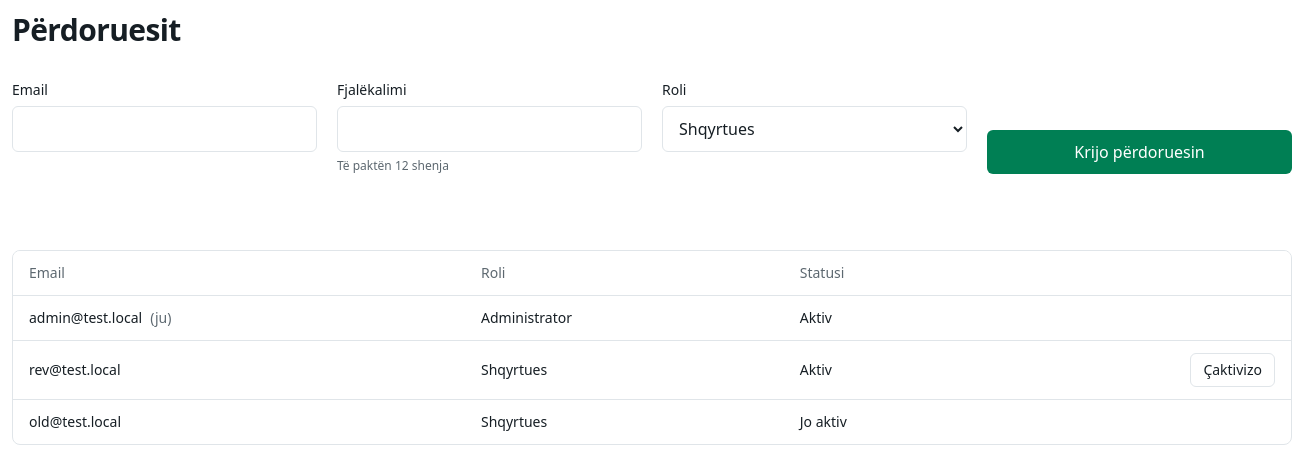
it: UsersPage › creates a user and reloads the list
The image size is (1304, 462).
Check: the table is shown, box [13,251,1291,444]
In the field labelled "Email": {"x": 164, "y": 129} [12,106,317,152], type "new@test.local"
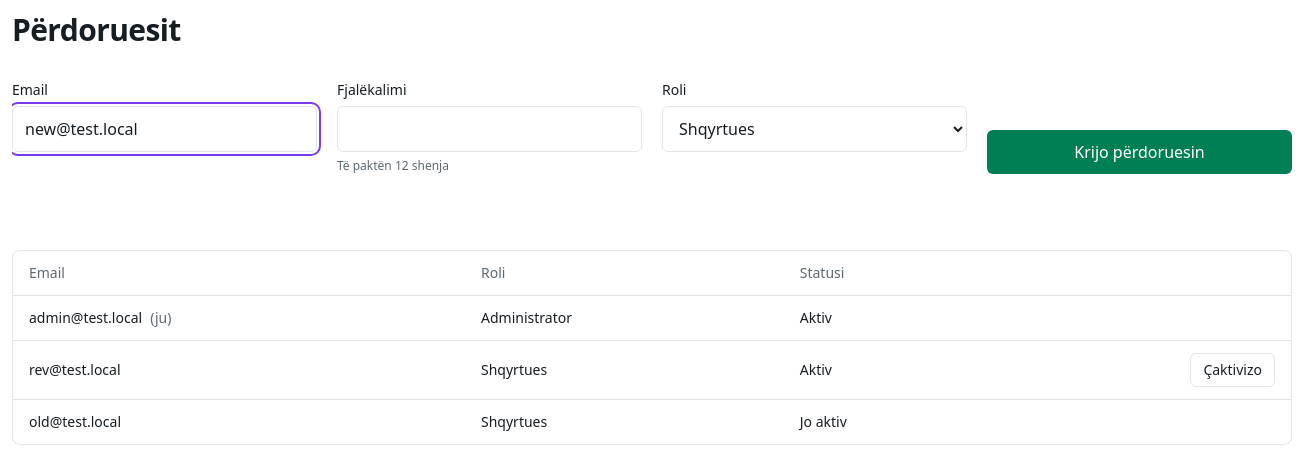
In the password field labelled "Fjalëkalimi": {"x": 490, "y": 129} [337,106,642,152], type "Long-enough-pass-1"
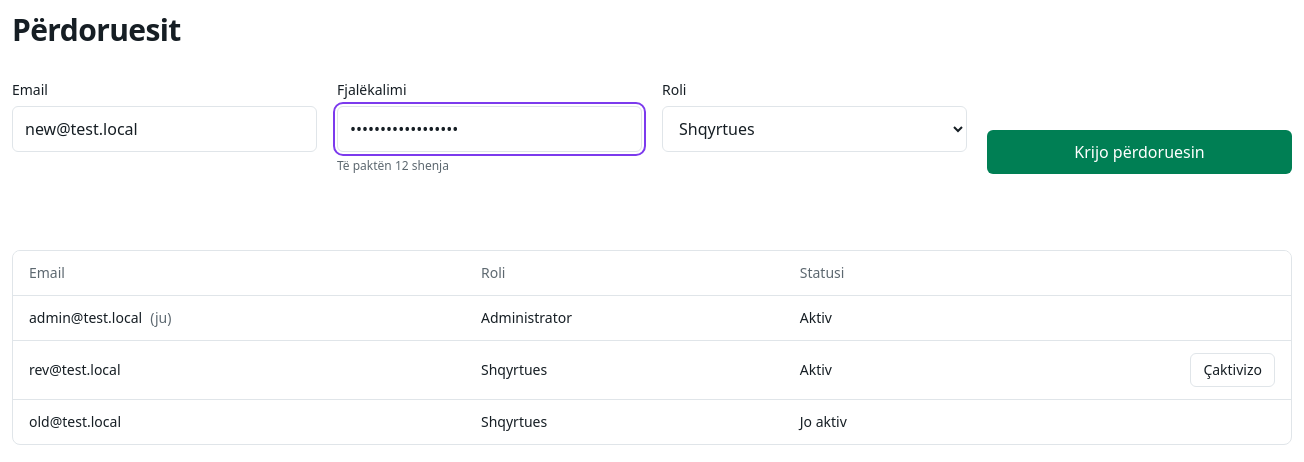
Select "Administrator" in the dropdown labelled "Roli": {"x": 814, "y": 129} [662,106,967,152]
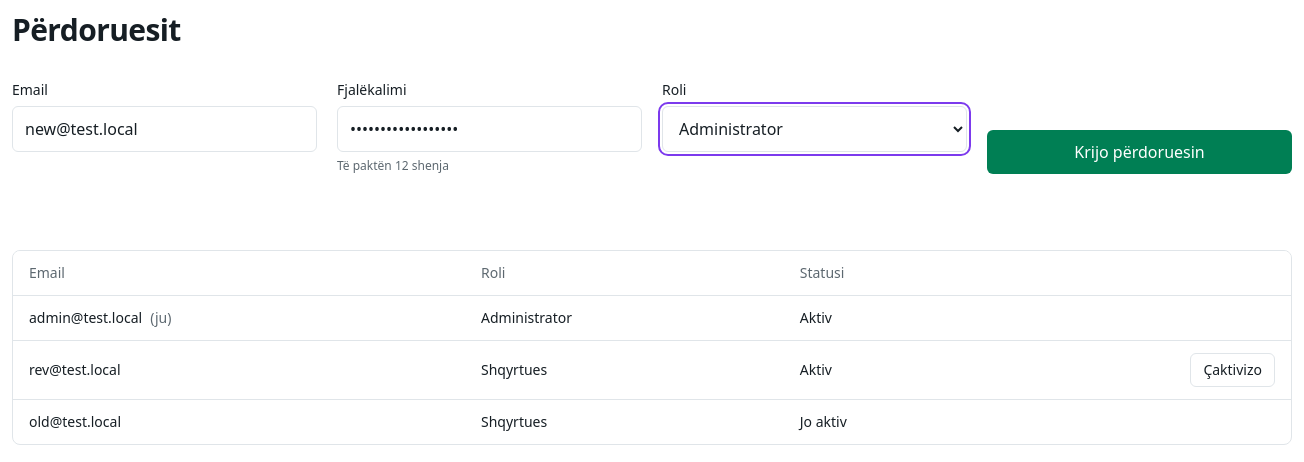
Click the button "Krijo përdoruesin": {"x": 1140, "y": 152} [987,130,1292,174]
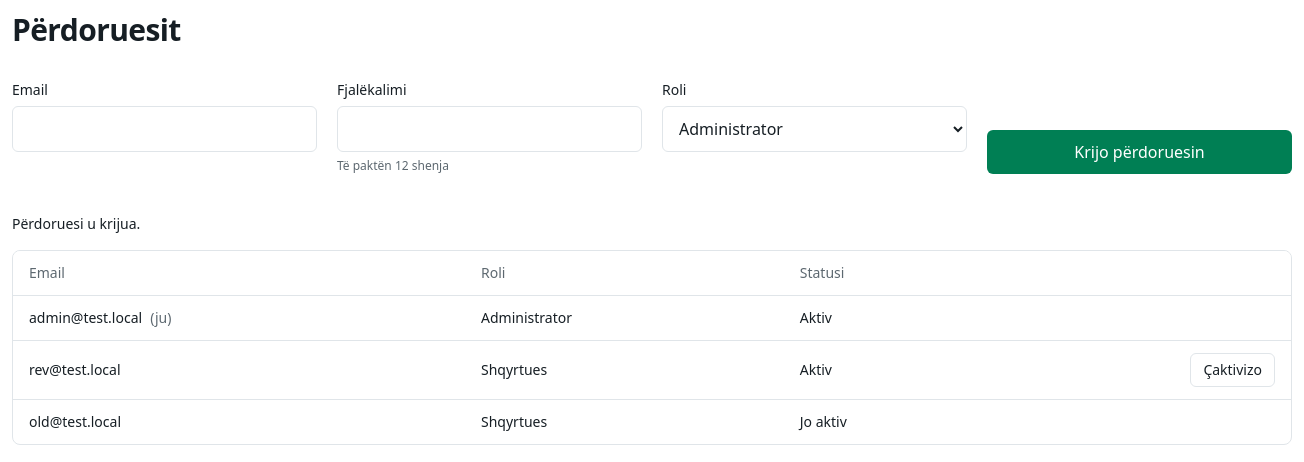
Check: the text "Përdoruesi u krijua." is shown, box [12,214,140,233]
